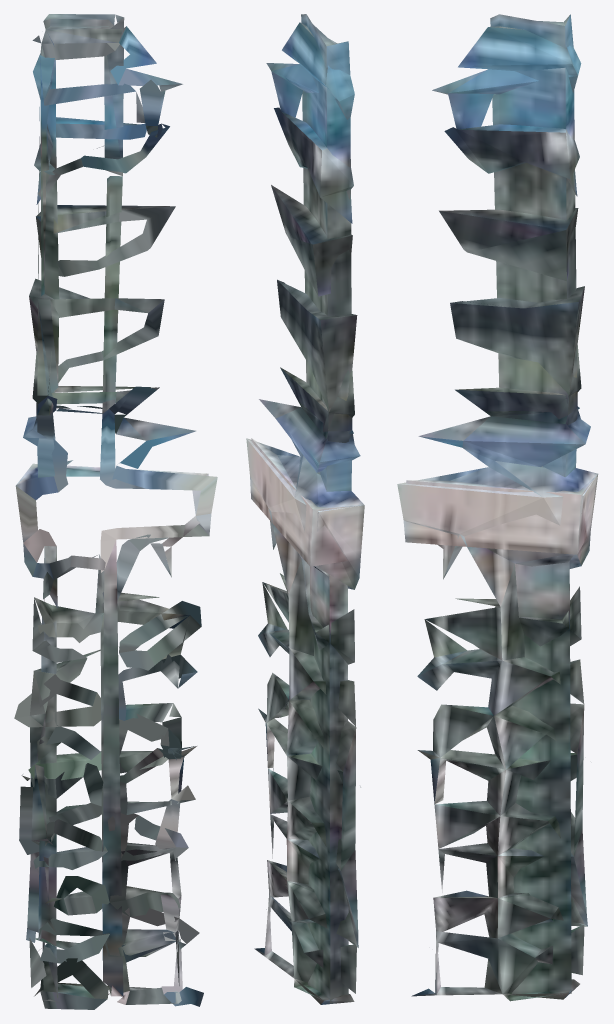
The picture shows the model from 3 angles, left to right: view 1: azimuth 90°, elevation 25°; view 2: azimuth 210°, elevation 25°; view 3: azimuth 270°, elevation 25°; orthographic projection.
Visible parts, largest first — view 1: Mesh_0; view 2: Mesh_0; view 3: Mesh_0.
Boxes of the visible parts, x1,y1,x2,y2 form: Mesh_0: (14,14,217,1009); Mesh_0: (246,14,364,1004); Mesh_0: (397,14,598,1001).
Size of the model in its own units: 3.76 by 62.35 by 11.54.
1 material, 1 textured.
